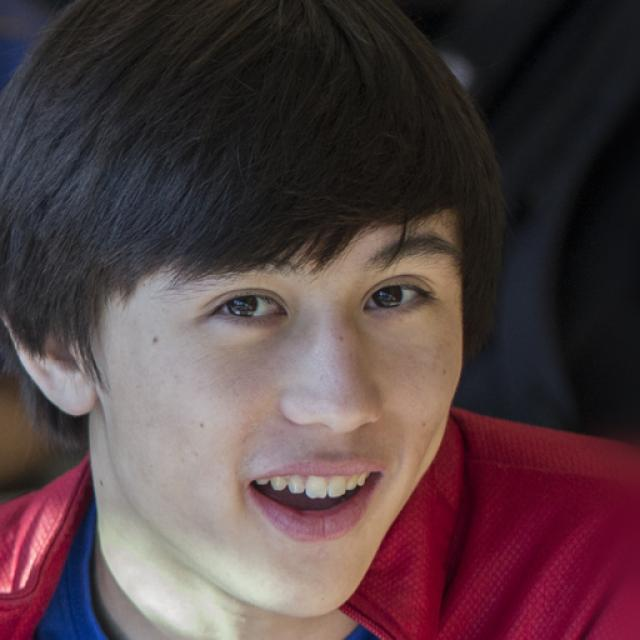0_rostro_limpio: (0, 0, 462, 614)
